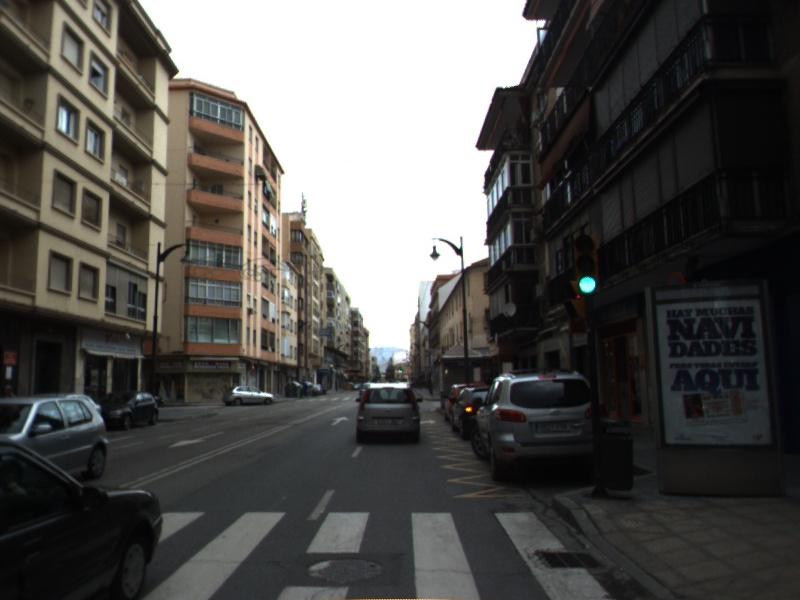STRAIGHT: (329, 415, 351, 427)
